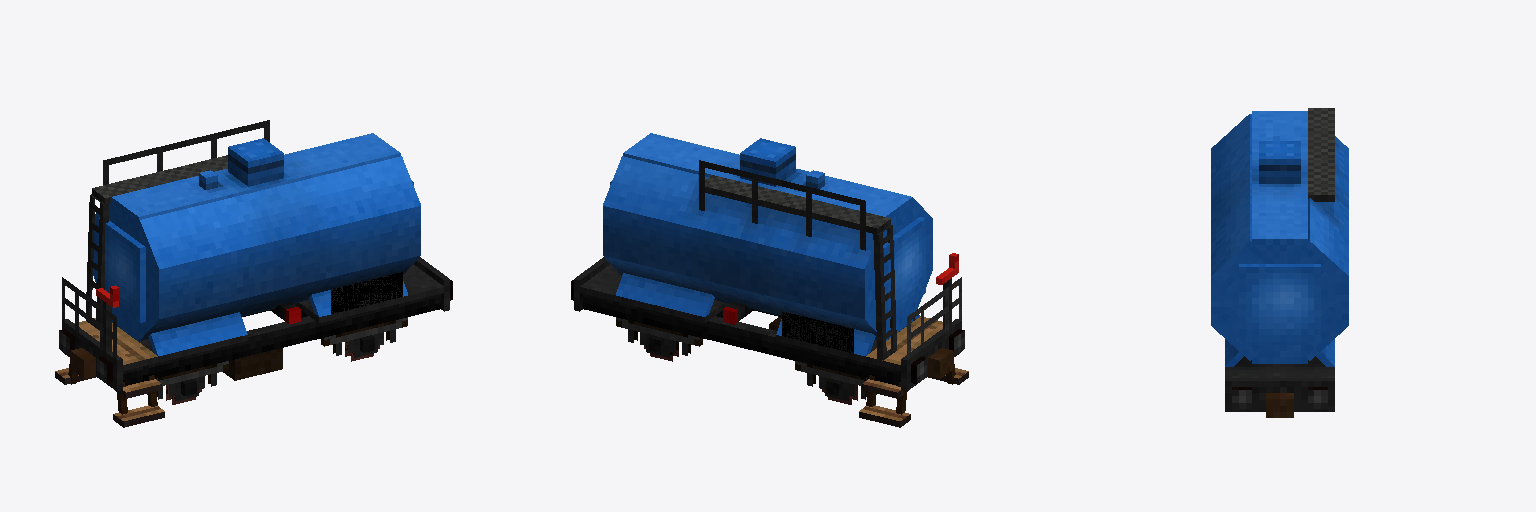
The picture shows the model from 3 angles: view 1: azimuth 30°, elevation 25°; view 2: azimuth 150°, elevation 25°; view 3: azimuth 270°, elevation 25°; orthographic projection.
Visible parts, largest first — view 1: box14, box12, box10, box16, box7, box34, box26, box33, box31, box32, box51, box48 (+10 smaller); view 2: box12, box15, box10, box9, box13, box32, box34, box24, box61, box37, box33, box31 (+9 smaller); view 3: box10, box36, box14, box15, box32, box22, box33, box12, box48, box7, box13, box11.
Part boxes in pixels (bbox=[...]): box14: bbox=[139, 156, 420, 280]; box12: bbox=[93, 206, 420, 318]; box10: bbox=[111, 133, 400, 340]; box16: bbox=[123, 294, 440, 385]; box7: bbox=[139, 256, 419, 339]; box34: bbox=[98, 218, 145, 322]; box26: bbox=[148, 312, 247, 355]; box33: bbox=[228, 138, 283, 186]; box31: bbox=[74, 318, 247, 370]; box32: bbox=[92, 155, 227, 203]; box51: bbox=[331, 272, 402, 313]; box48: bbox=[295, 264, 443, 322]; box12: bbox=[603, 206, 932, 318]; box15: bbox=[603, 156, 884, 279]; box10: bbox=[623, 133, 912, 340]; box9: bbox=[583, 294, 900, 385]; box13: bbox=[604, 256, 876, 338]; box32: bbox=[699, 175, 890, 234]; box34: bbox=[883, 217, 925, 321]; box24: bbox=[616, 273, 714, 316]; box61: bbox=[873, 225, 896, 360]; box37: bbox=[699, 160, 865, 250]; box33: bbox=[740, 138, 795, 186]; box31: bbox=[776, 316, 942, 370]; box10: bbox=[1252, 111, 1307, 363]; box36: bbox=[1239, 264, 1320, 341]; box14: bbox=[1211, 114, 1273, 297]; box15: bbox=[1286, 136, 1348, 297]; box32: bbox=[1308, 108, 1334, 201]; box22: bbox=[1225, 378, 1334, 411]; box33: bbox=[1259, 141, 1300, 183]; box12: bbox=[1211, 276, 1348, 325]; box48: bbox=[1225, 356, 1334, 377]; box7: bbox=[1212, 304, 1270, 360]; box13: bbox=[1302, 304, 1347, 360]; box11: bbox=[1266, 393, 1293, 417].
Bounding box in the file's own units: 3.75 × 2.25 × 1.25.
Materials: 1 (1 with a texture image).